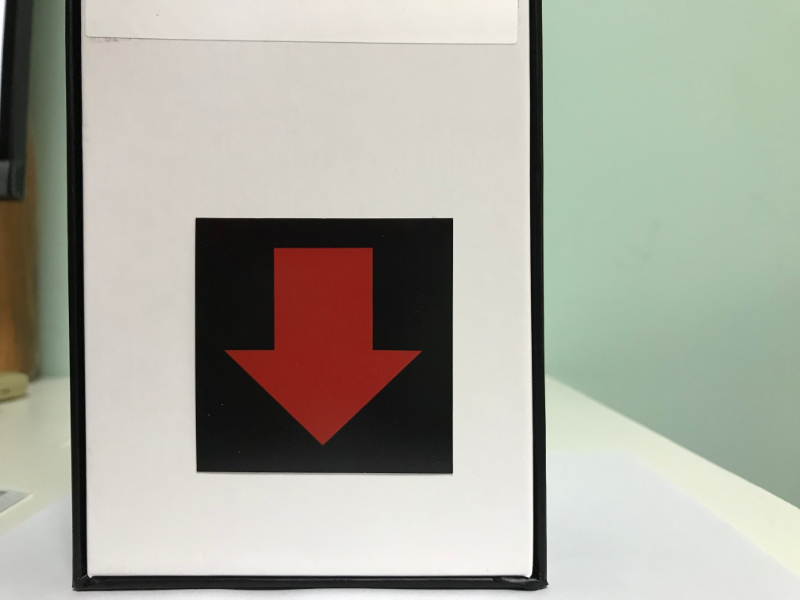DA-2: (198, 221, 452, 474)
